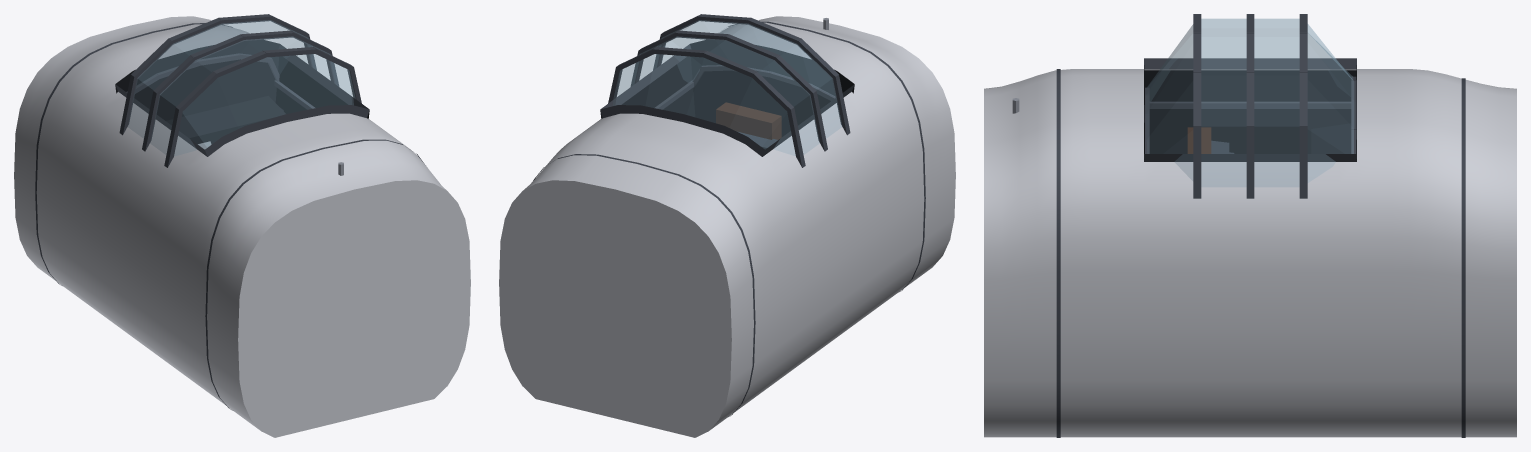
The model's file is cockpit_frame.glb.
3 renders of one model, left to right at view 1: azimuth 30°, elevation 25°; view 2: azimuth 150°, elevation 25°; view 3: azimuth 270°, elevation 25°, orthographic. The views are drawn at different scales.
Visible parts, largest first — view 1: cockpit_frame, cockpit_frame_Glas; view 2: cockpit_frame, cockpit_frame_Glas; view 3: cockpit_frame, cockpit_frame_Glas.
Part boxes in pixels (<box>): cockpit_frame: <box>14,16,470,437</box>; cockpit_frame_Glas: <box>119,14,361,167</box>; cockpit_frame: <box>499,16,955,437</box>; cockpit_frame_Glas: <box>608,14,850,167</box>; cockpit_frame: <box>984,58,1516,437</box>; cockpit_frame_Glas: <box>1144,14,1356,198</box>.
Bounding box in the file's own units: 1.36 × 1.67 × 2.25.
